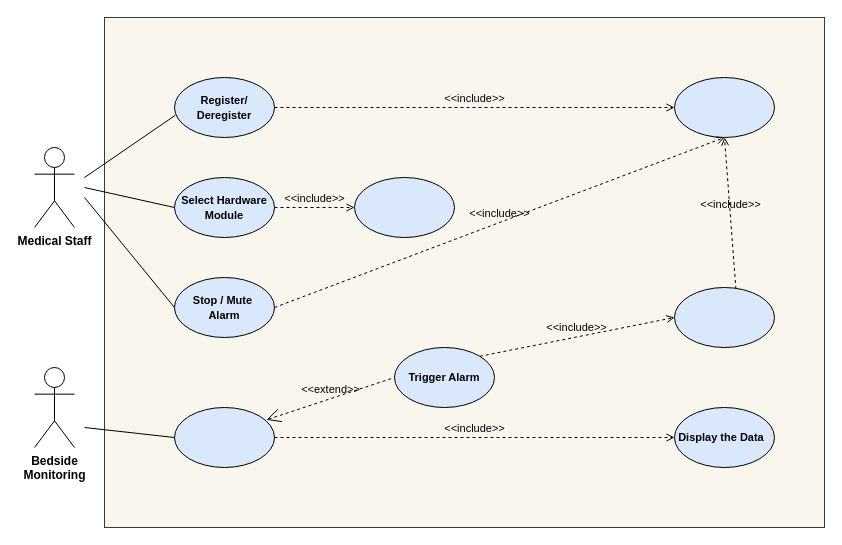
Image size: 842x545. Some labels were removed from this diagram. The shapes that lost their labels are listed below. From the top down, each one's centre as x and y in pixels, then its label:
(724,107): Record Time
(404,207): Set / Change Module Limits
(724,317): Alert Staff
(224,437): Read Patient Data
